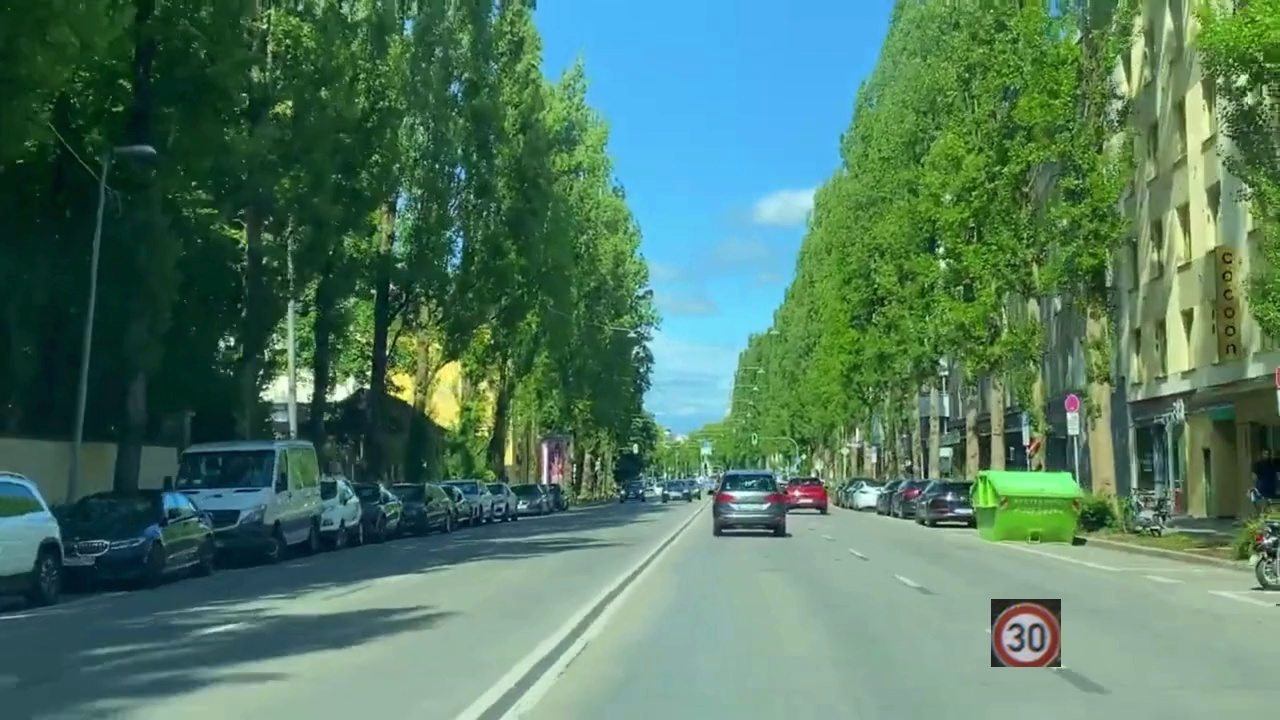Speed 30: (991, 599, 1061, 667)
